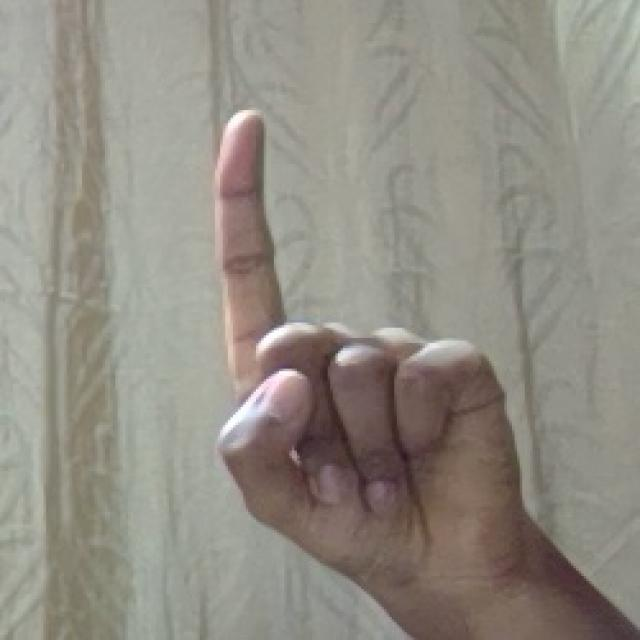Numeric-1: (215, 105, 518, 598)
